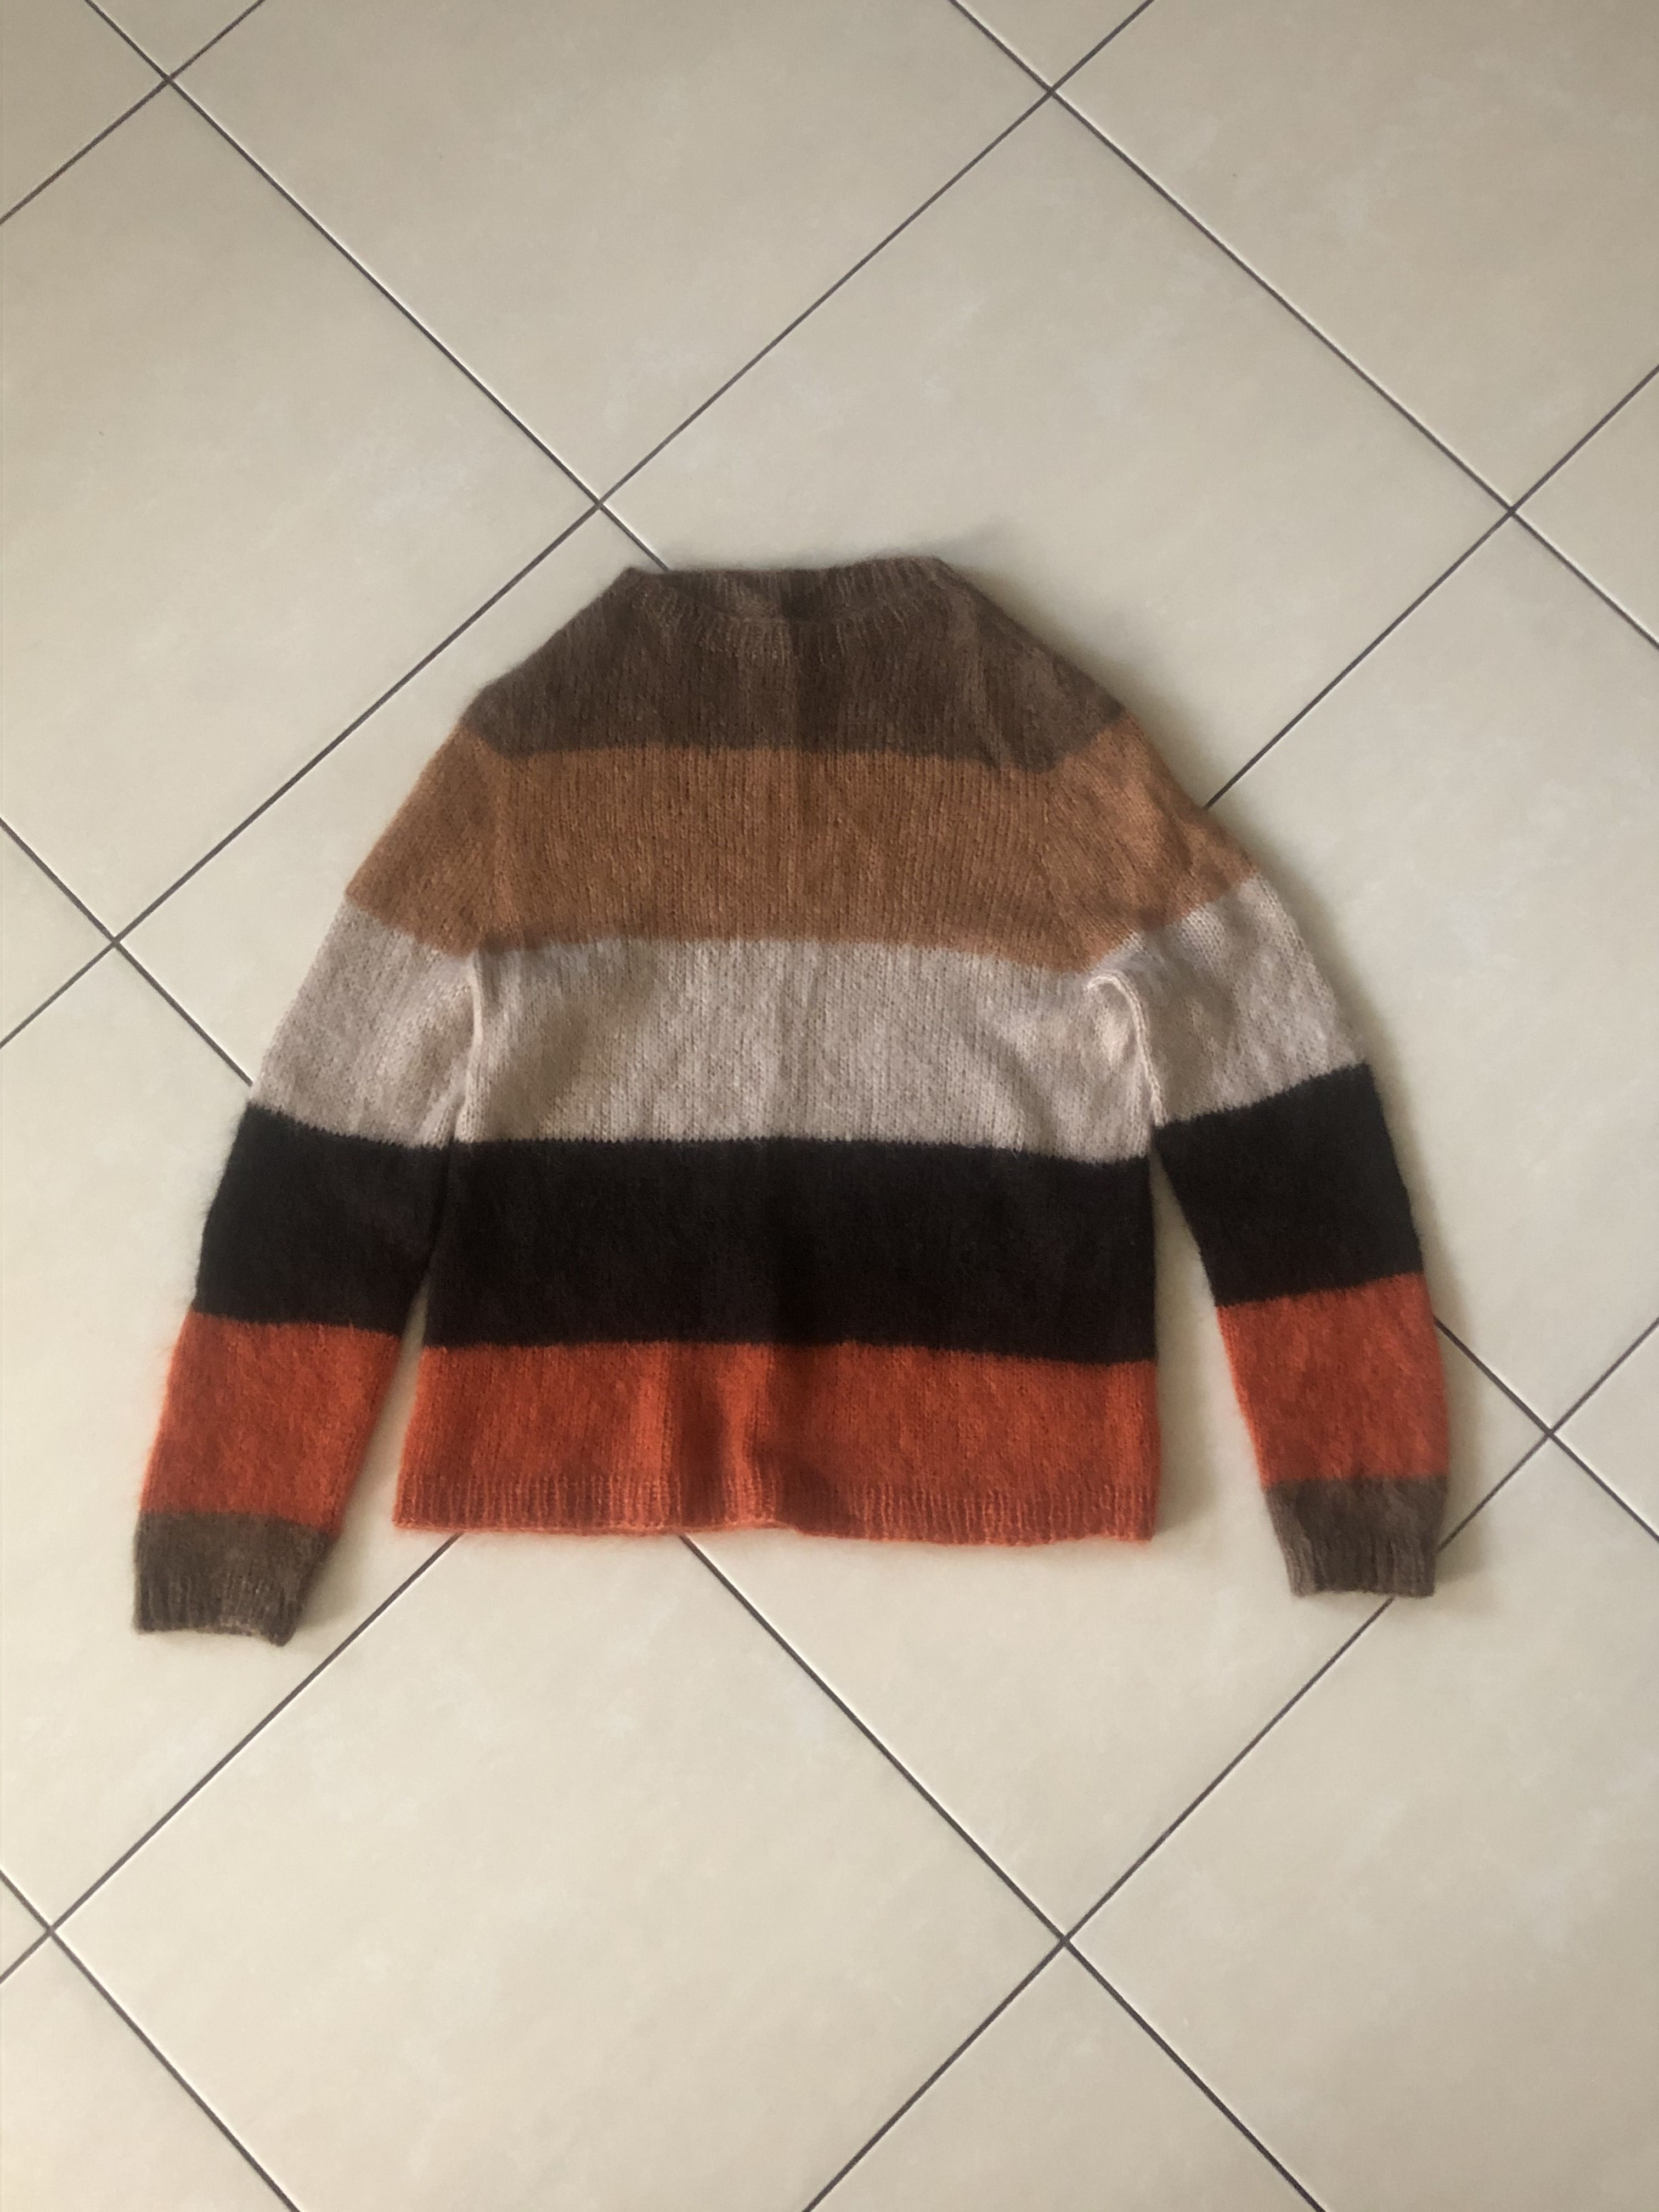clothes: (87, 543, 1466, 1620)
